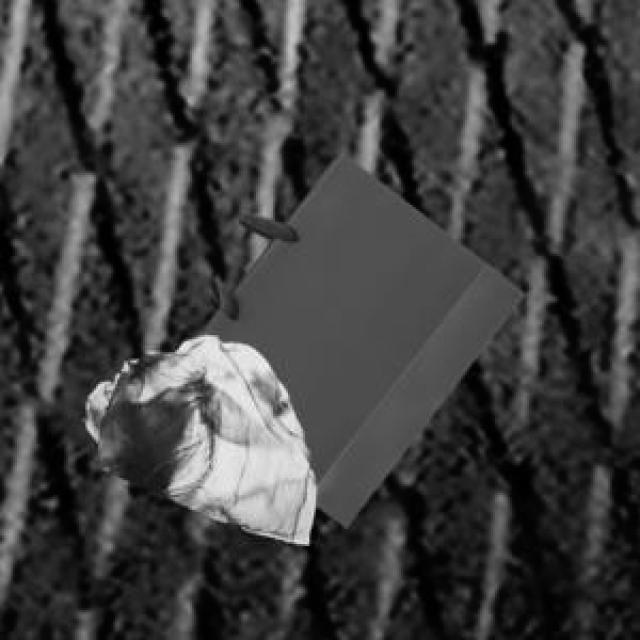paper: (190, 152, 521, 523)
